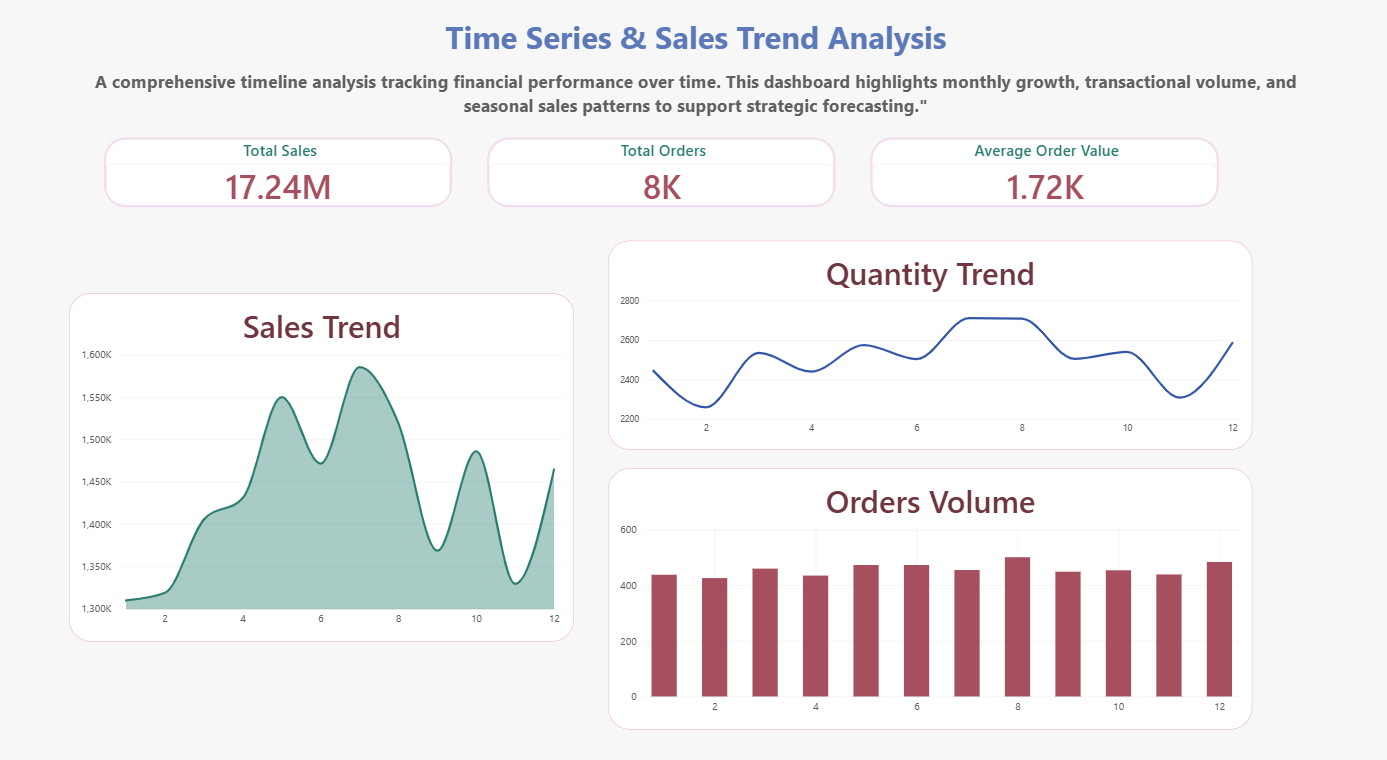

What the dashboard file says about the page in this screenshot:
{"tool":"powerbi","page":{"name":"Sales Trend / Time Analysis","canvas":[1920,1080],"ordinal":3},"visuals":[{"type":"cardVisual","title":"Total Sales","fields":{"Data":["FactSales.Total Sales"]},"box":[144,216,480,96],"z":0},{"type":"cardVisual","title":"Average Order Value","fields":{"Data":["FactSales.Average Order Value"]},"box":[1200,216,480,96],"z":2000},{"type":"cardVisual","title":"Total Orders","fields":{"Data":["FactSales.Total Orders"]},"box":[672,216,480,96],"z":3000},{"type":"areaChart","title":"Sales Trend","fields":{"Category":["DimDate.Month"],"Y":["FactSales.Total Sales"]},"box":[96,432,696,480],"z":5000},{"type":"lineChart","title":"Quantity Trend","fields":{"Category":["DimDate.Month"],"Y":["FactSales.Total Quantity"]},"box":[840,360,888,288],"z":7000},{"type":"clusteredColumnChart","title":"Orders Volume","fields":{"Category":["DimDate.Month"],"Y":["FactSales.Total Orders"]},"box":[840,672,888,360],"z":9000},{"type":"textbox","box":[96,48,1728,168],"z":10000}]}

Visuals, with their boxes in screenshot pixels (x1, y1, x2, y2), scaled from the page's 1920x1080 canvas onto the 1387x760 screenshot:
"Total Sales" cardVisual: {"x1": 104, "y1": 152, "x2": 451, "y2": 220}
"Average Order Value" cardVisual: {"x1": 867, "y1": 152, "x2": 1214, "y2": 220}
"Total Orders" cardVisual: {"x1": 485, "y1": 152, "x2": 832, "y2": 220}
"Sales Trend" areaChart: {"x1": 69, "y1": 304, "x2": 572, "y2": 642}
"Quantity Trend" lineChart: {"x1": 607, "y1": 253, "x2": 1248, "y2": 456}
"Orders Volume" clusteredColumnChart: {"x1": 607, "y1": 473, "x2": 1248, "y2": 726}
textbox: {"x1": 69, "y1": 34, "x2": 1318, "y2": 152}
